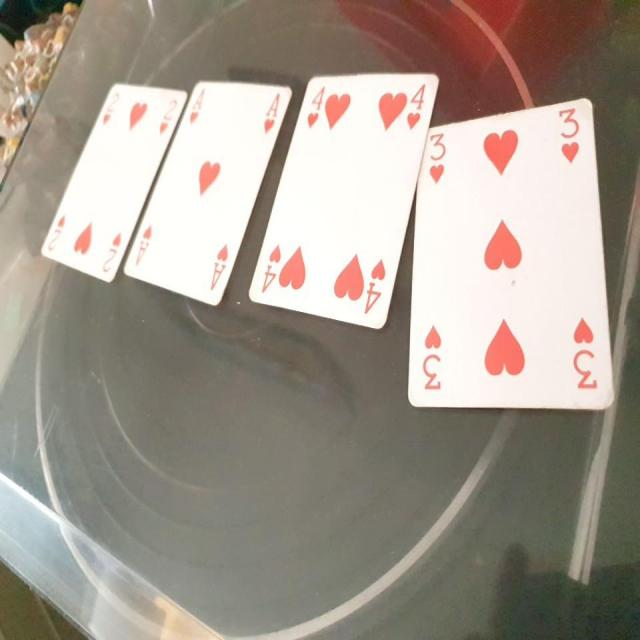2 Hearts: (38, 73, 191, 294)
3 Hearts: (409, 99, 620, 418)
4 Hearts: (250, 72, 441, 336)
A Hearts: (122, 69, 295, 314)
